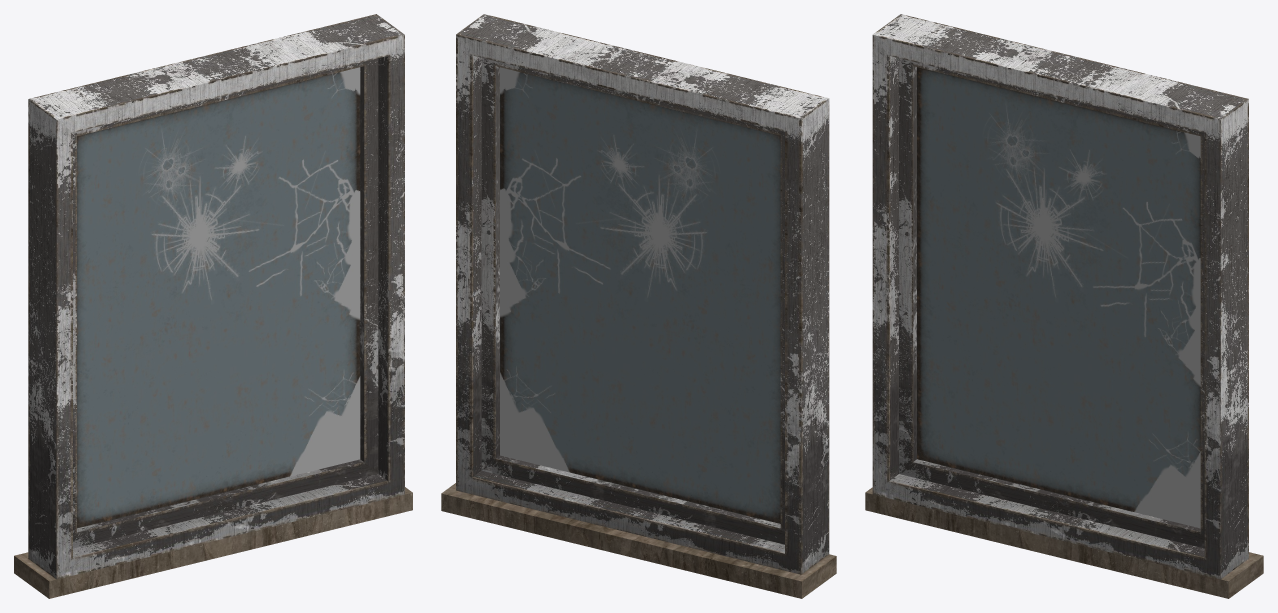
The model's file is Window.fbx.
The picture shows the model from 3 angles, left to right: view 1: azimuth 30°, elevation 25°; view 2: azimuth 150°, elevation 25°; view 3: azimuth 330°, elevation 25°; orthographic projection.
Parts seen in each view (by area): view 1: Glass_001, Window_001, Frame_001; view 2: Glass_001, Window_001, Frame_001; view 3: Glass_001, Window_001, Frame_001.
Part boxes in pixels (bbox=[...]): Glass_001: bbox=[77, 67, 360, 528]; Window_001: bbox=[28, 14, 404, 579]; Frame_001: bbox=[14, 487, 412, 598]; Glass_001: bbox=[500, 67, 780, 523]; Window_001: bbox=[456, 14, 829, 574]; Frame_001: bbox=[441, 483, 836, 598]; Glass_001: bbox=[917, 67, 1200, 528]; Window_001: bbox=[872, 14, 1248, 579]; Frame_001: bbox=[865, 487, 1263, 598].
Size of the model in its own units: 0.0159 by 0.02 by 0.00266.
